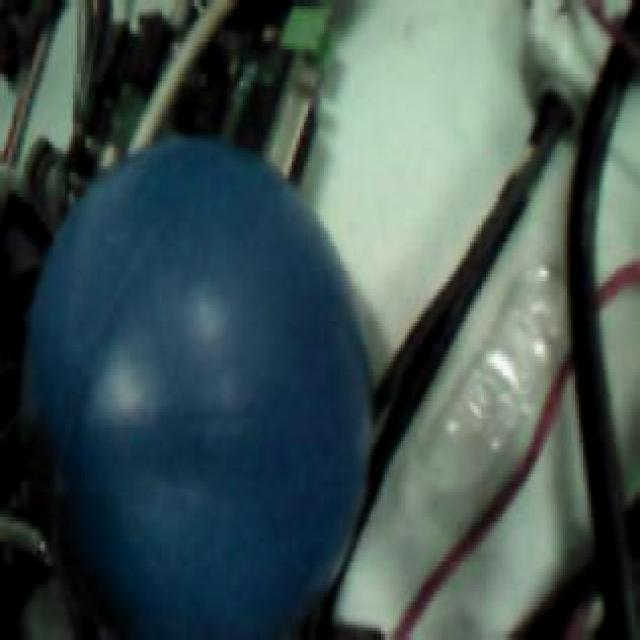BallPurple: (26, 138, 369, 640)
